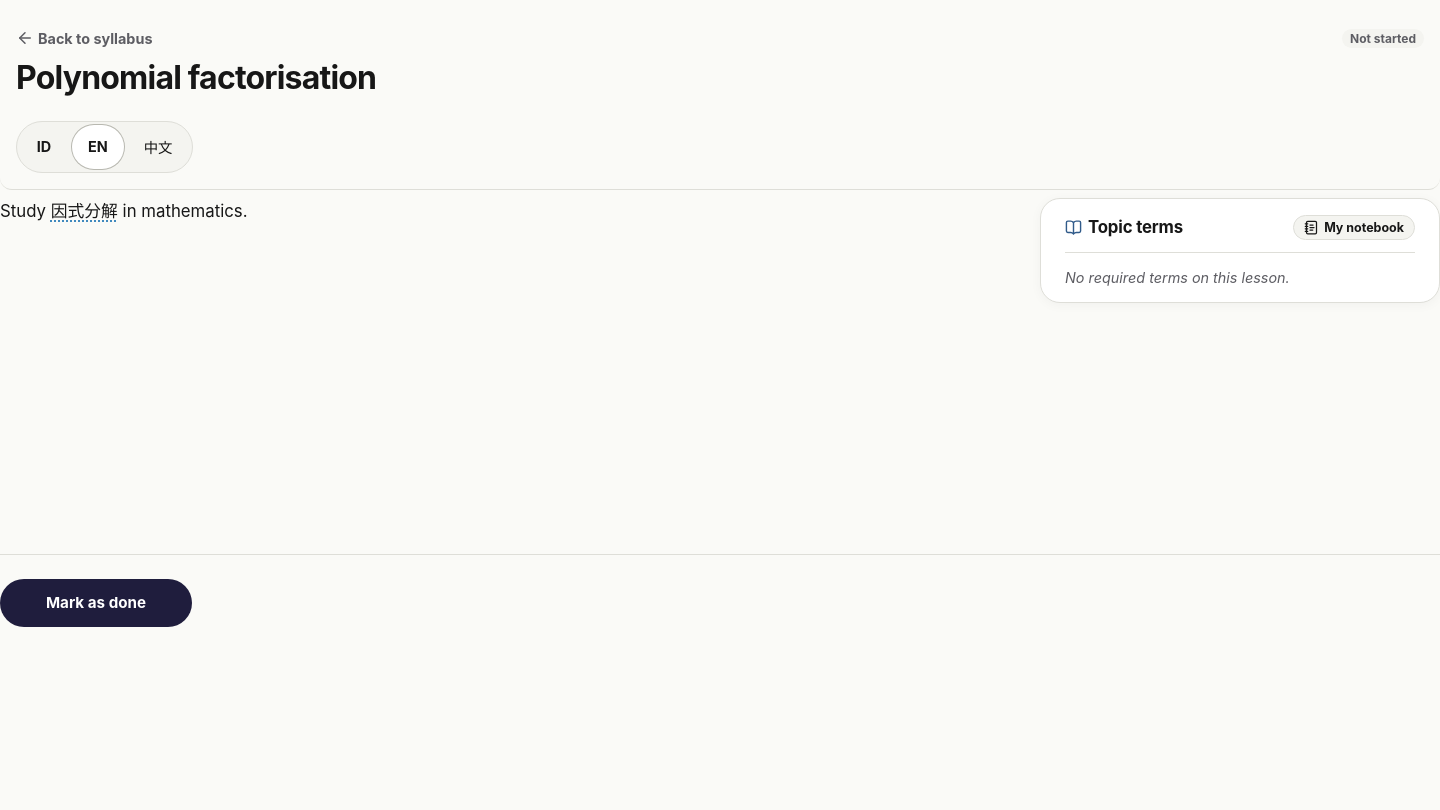
Test: activating an inline lesson term opens the compact gloss bubble and allows bookmarking
Step 1. Click the button "因式分解" → (84, 212), box [51, 198, 118, 226]
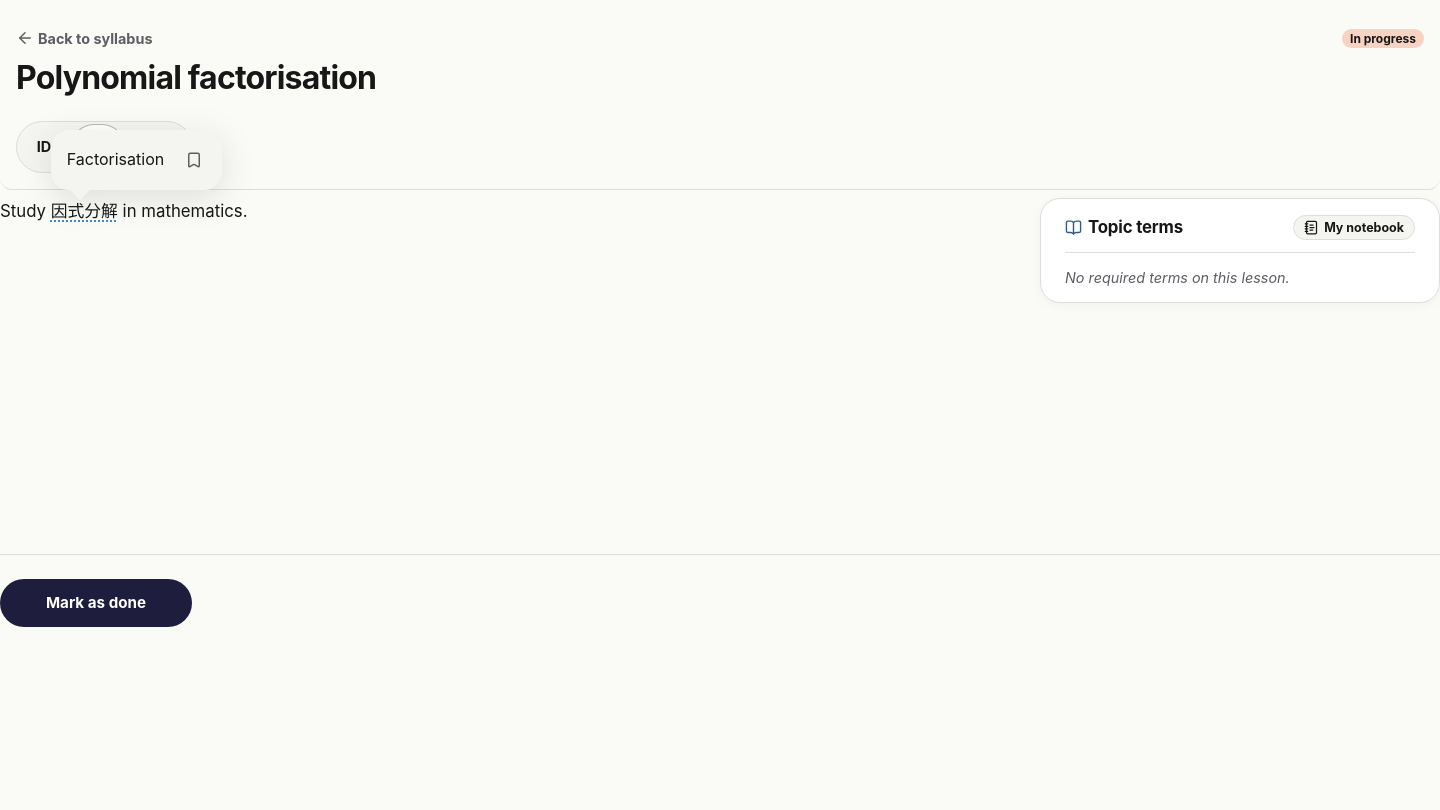
Check: the text "Factorisation" is shown, box [67, 149, 164, 169]
Step 2. Click the button named "Bookmark 因式分解" → (194, 160), box [172, 138, 216, 182]
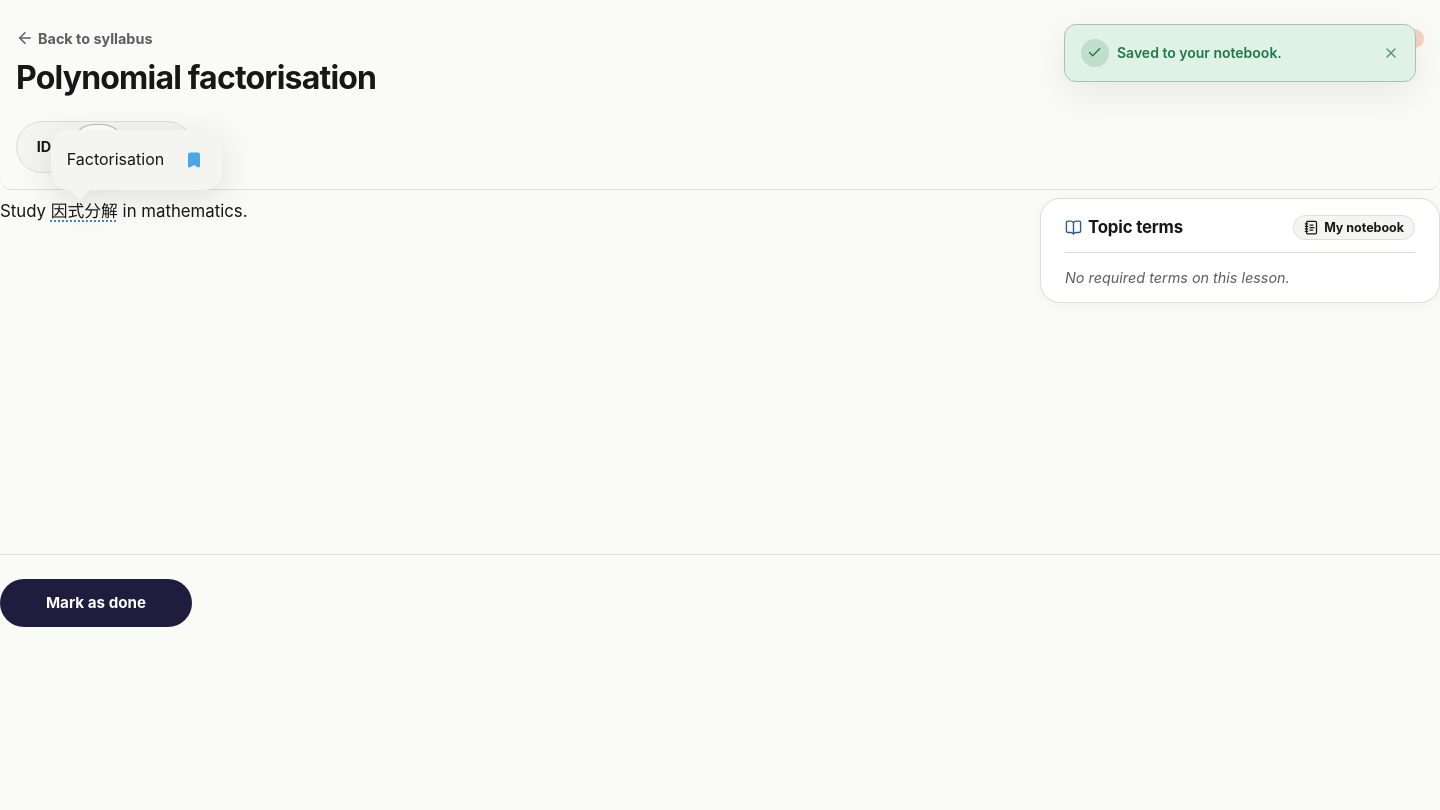
Check: the text "Saved to your notebook." is shown, box [1117, 44, 1282, 61]
